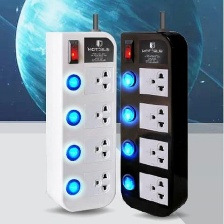three_eye_plug: (42, 27, 119, 216), (117, 29, 190, 218)
